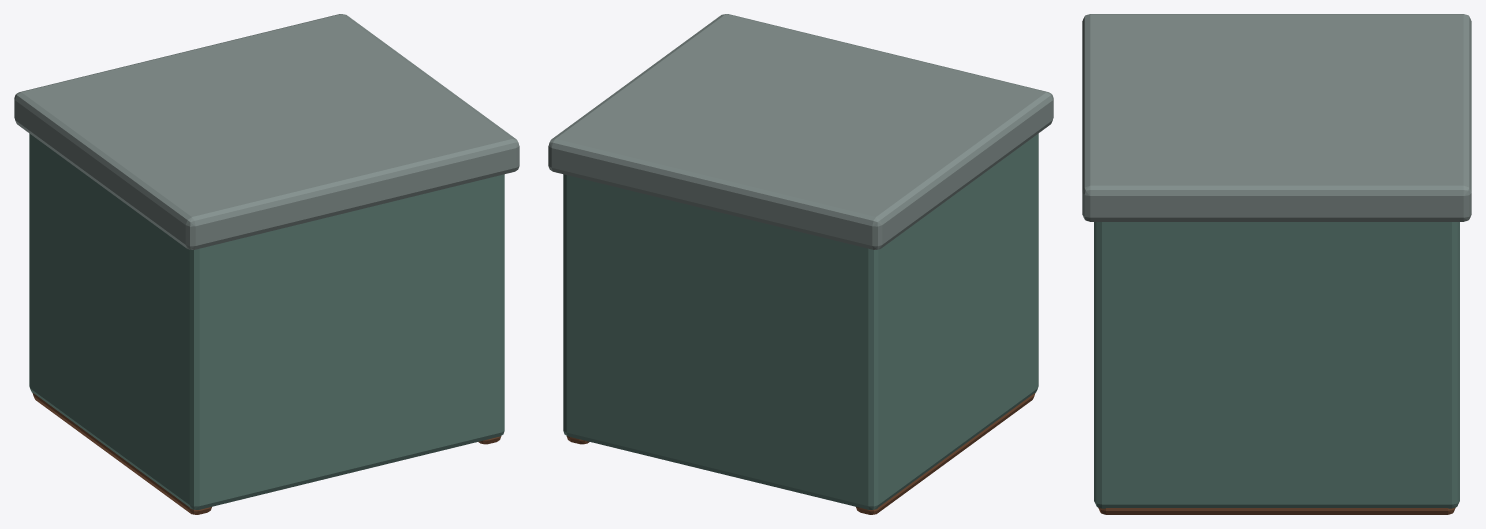
Rendered from H_SupplyCrate.fbx.
The picture shows the model from 3 angles, left to right: view 1: azimuth 30°, elevation 25°; view 2: azimuth 150°, elevation 25°; view 3: azimuth 270°, elevation 25°; orthographic projection. The views are drawn at different scales.
Visible parts, largest first — view 1: H_SupplyCrate; view 2: H_SupplyCrate; view 3: H_SupplyCrate.
Boxes of the visible parts, box(x1,y1,x2,y2) form: H_SupplyCrate: box(14, 14, 519, 514); H_SupplyCrate: box(548, 14, 1053, 514); H_SupplyCrate: box(1082, 14, 1471, 514).
Size of the model in its own units: 0.53 by 0.465 by 0.49.
